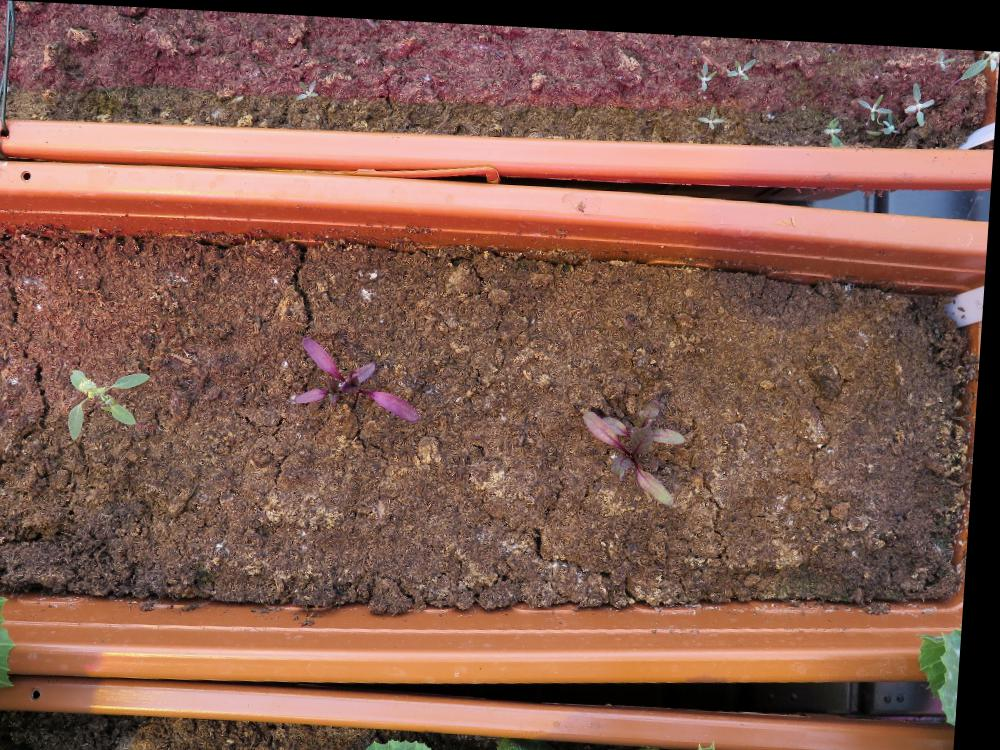weed: (902, 69, 936, 115), (694, 95, 725, 123), (724, 46, 755, 72), (694, 51, 718, 82), (294, 71, 320, 99)
